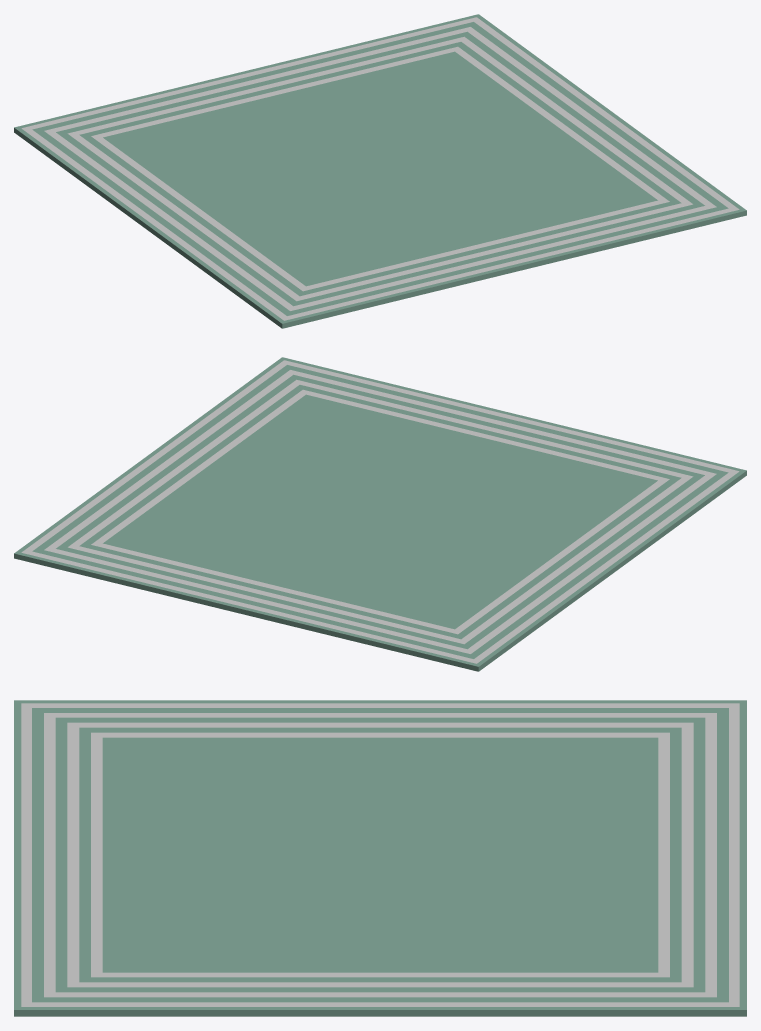
File: Ground_1.fbx
The picture shows the model from 3 angles, top to bottom: view 1: azimuth 30°, elevation 25°; view 2: azimuth 150°, elevation 25°; view 3: azimuth 270°, elevation 25°; orthographic projection. The views are drawn at different scales.
Visible parts, largest first — view 1: Ground_1; view 2: Ground_1; view 3: Ground_1.
Boxes of the visible parts, box(x1,y1,x2,y2) form: Ground_1: box(14, 14, 746, 328); Ground_1: box(14, 357, 746, 671); Ground_1: box(14, 700, 746, 1016).
Bounding box in the file's own units: 3.61 × 0.0368 × 3.61.
